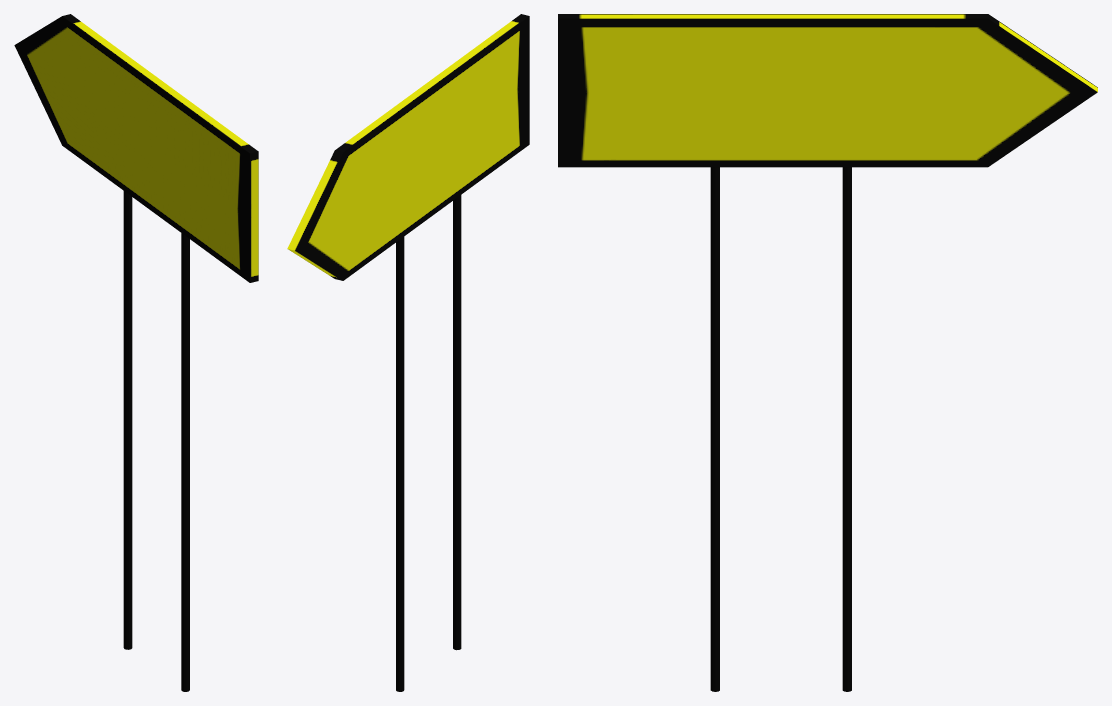
Rendered from signboard1.fbx.
3 views of the same model, side by side, from view 1: azimuth 30°, elevation 25°; view 2: azimuth 150°, elevation 25°; view 3: azimuth 270°, elevation 25° (orthographic). The views are drawn at different scales.
Parts seen in each view (by area): view 1: signboard; view 2: signboard; view 3: signboard.
Part boxes in pixels (left/top/right/bottom): signboard: left=14, top=14, right=258, bottom=691; signboard: left=287, top=14, right=529, bottom=691; signboard: left=558, top=14, right=1097, bottom=691.
Size of the model in its own units: 13.85 by 908 by 659.
Materials: 1 (1 with a texture image).
